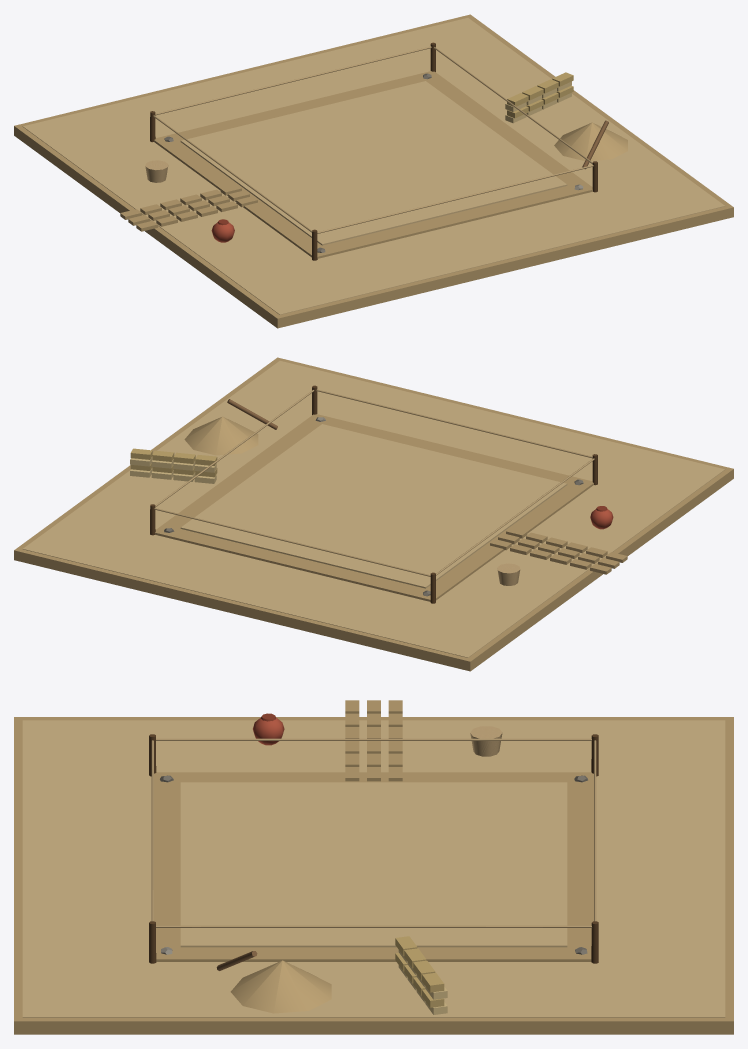
The model's file is rad-2-site.glb.
3 renders of one model, top to bottom at view 1: azimuth 30°, elevation 25°; view 2: azimuth 150°, elevation 25°; view 3: azimuth 270°, elevation 25°, orthographic. The views are drawn at different scales.
Size of the model in its own units: 21.17 by 1.81 by 20.5.
Materials: 12 (1 with a texture image).
